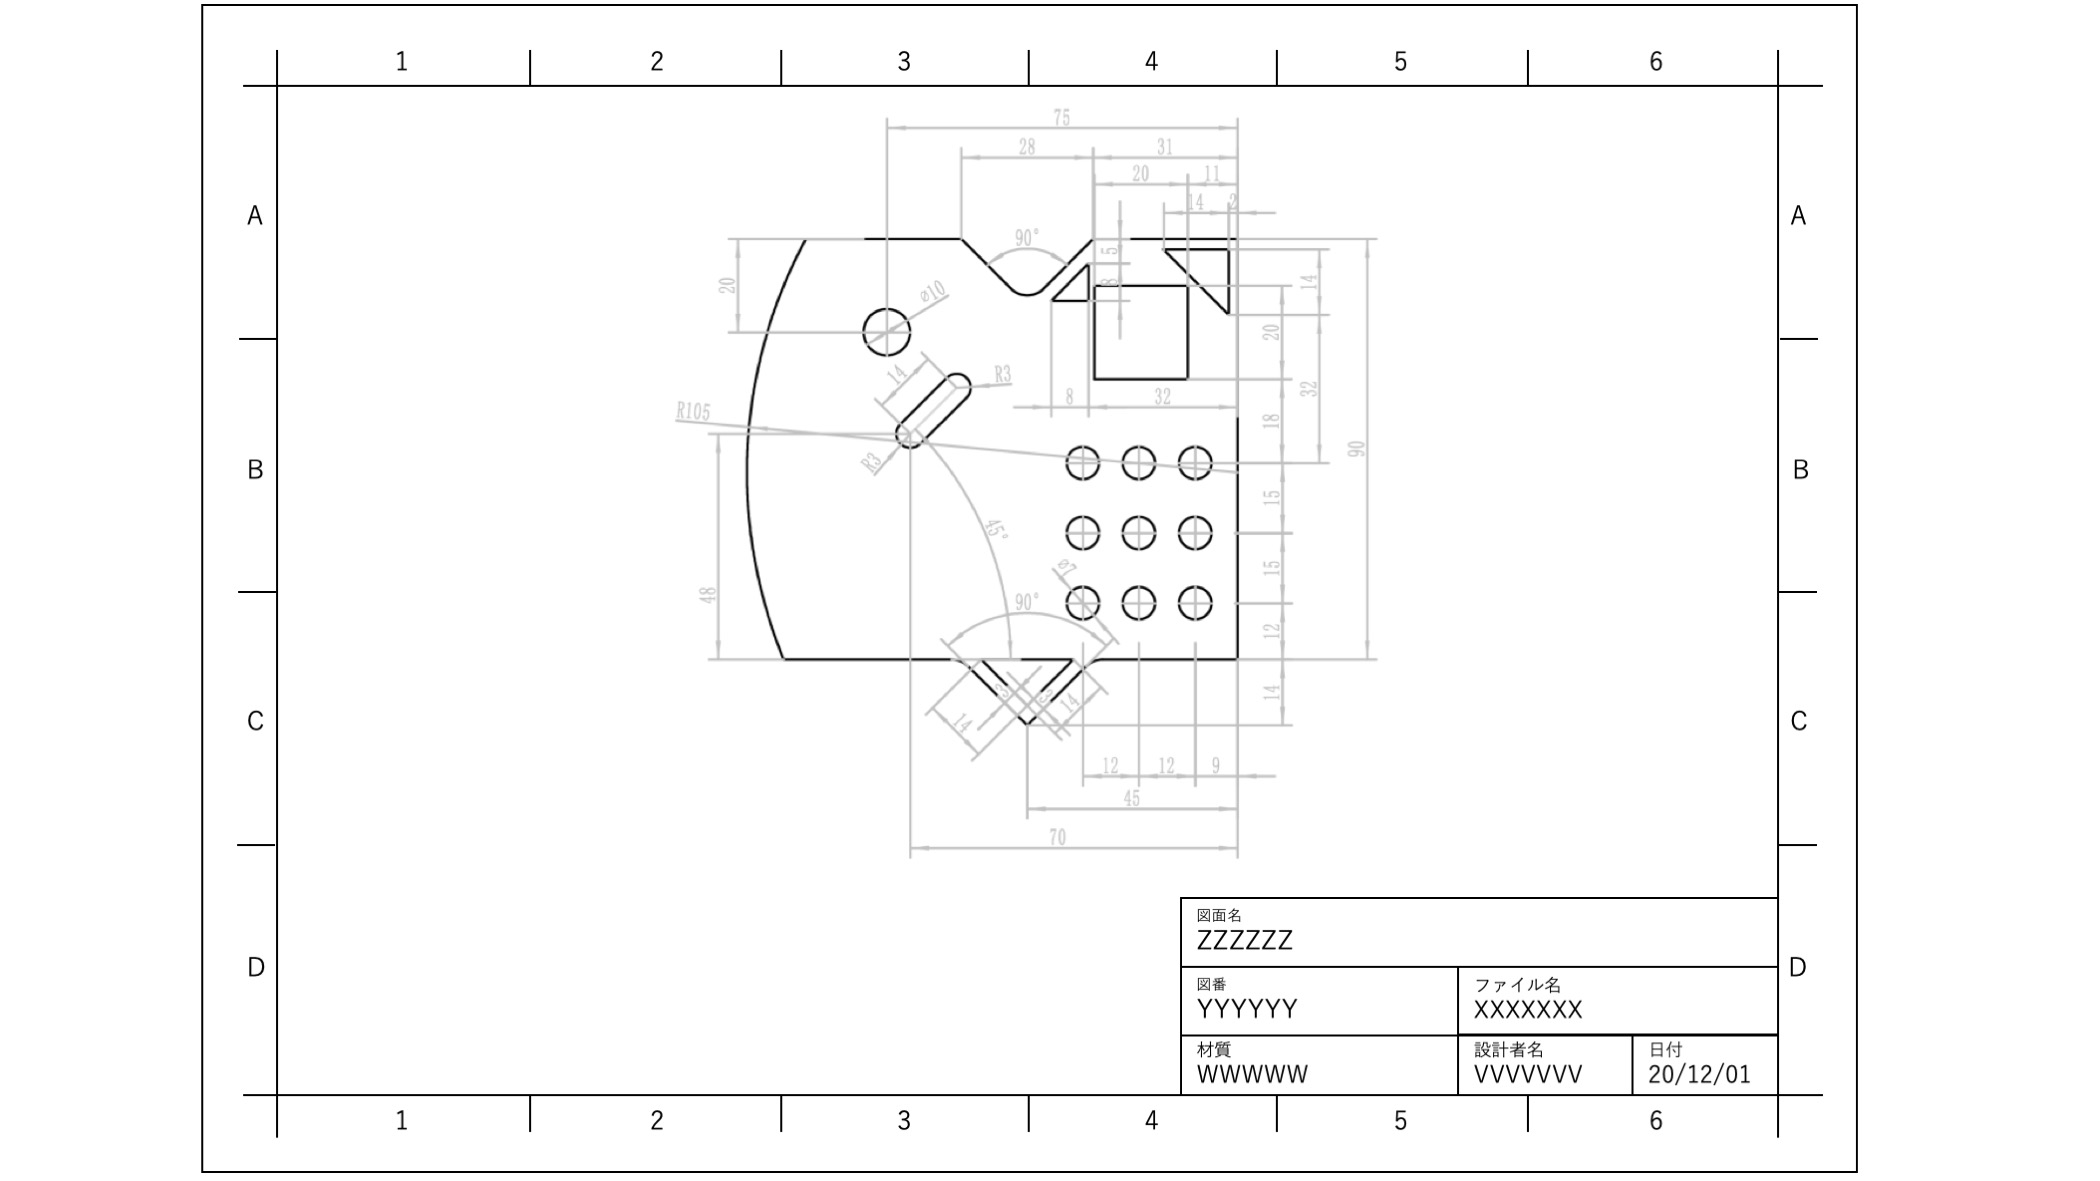circle: (857, 301, 917, 362), (1060, 580, 1108, 624), (1116, 438, 1160, 487), (1064, 505, 1103, 557), (1116, 508, 1160, 551), (1175, 506, 1216, 552), (1175, 435, 1214, 483), (1118, 581, 1160, 624), (1064, 441, 1103, 485), (1175, 580, 1214, 619)
rectangle: (1085, 280, 1193, 388)
round_rectangle: (887, 361, 971, 453)
triangle: (976, 649, 1075, 712), (1160, 238, 1237, 317), (1046, 257, 1090, 301)
